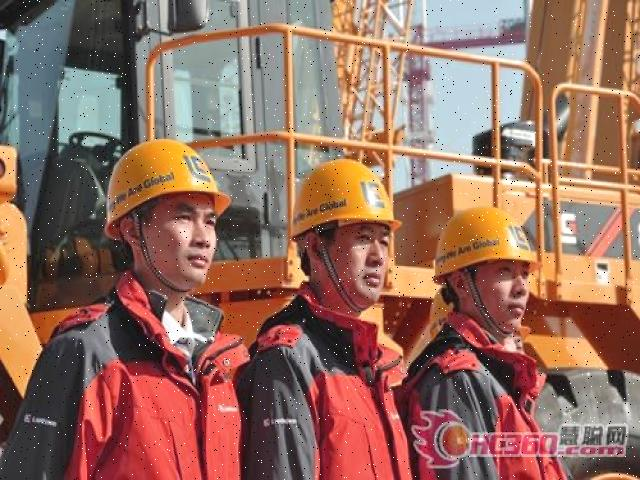Helmet: (99, 132, 234, 244), (282, 153, 404, 247), (425, 199, 542, 287)
